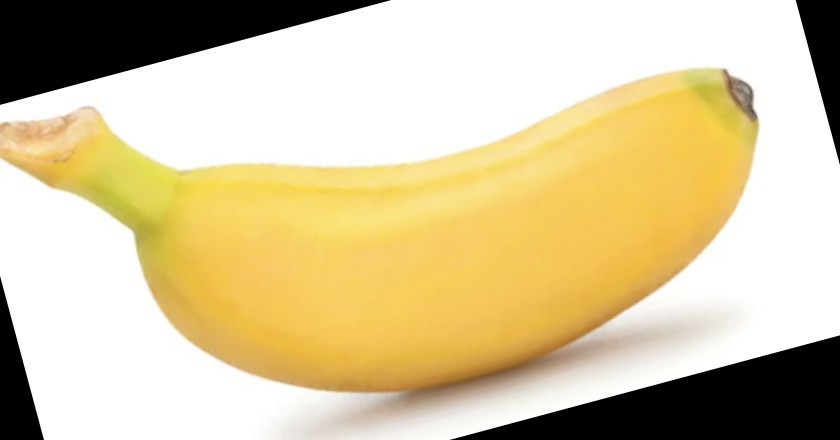fresh_banana: (17, 68, 766, 386)
